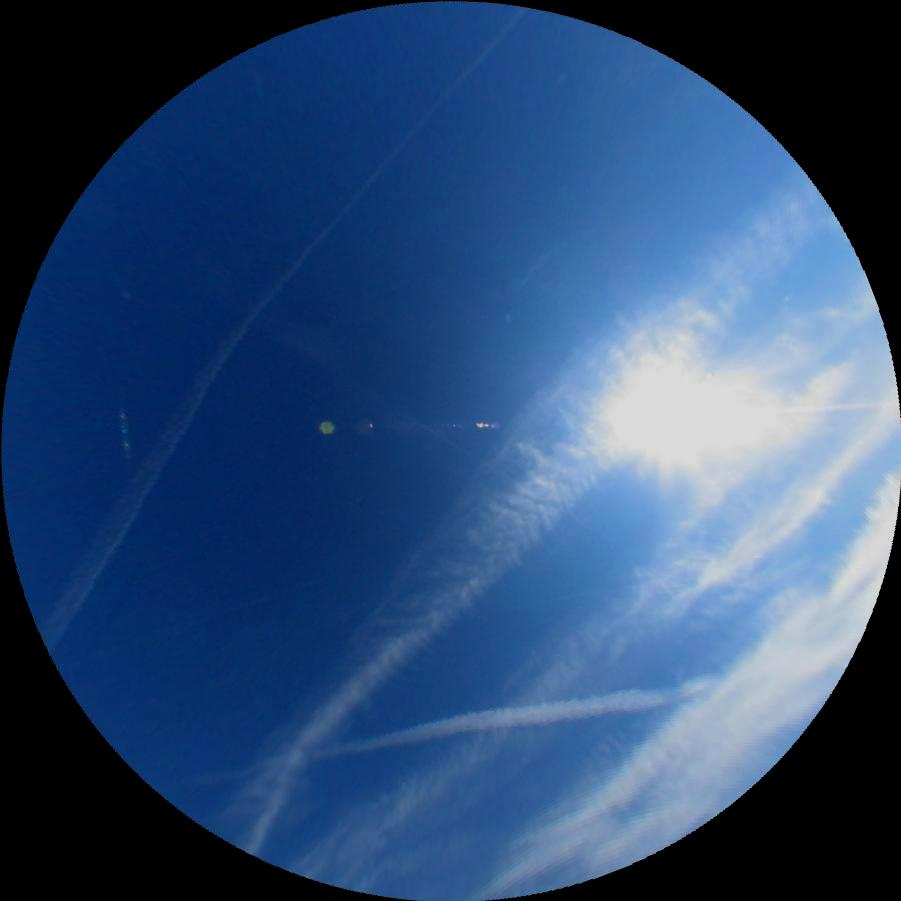contrail old: (186, 668, 715, 787)
contrail veryold: (188, 132, 840, 891), (12, 0, 529, 651)
parasite: (729, 396, 899, 417), (114, 385, 132, 467)
sun: (637, 375, 733, 448)
